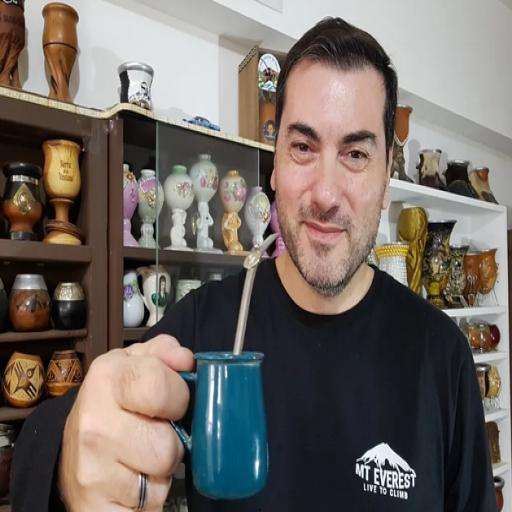mate: (172, 352, 268, 499)
